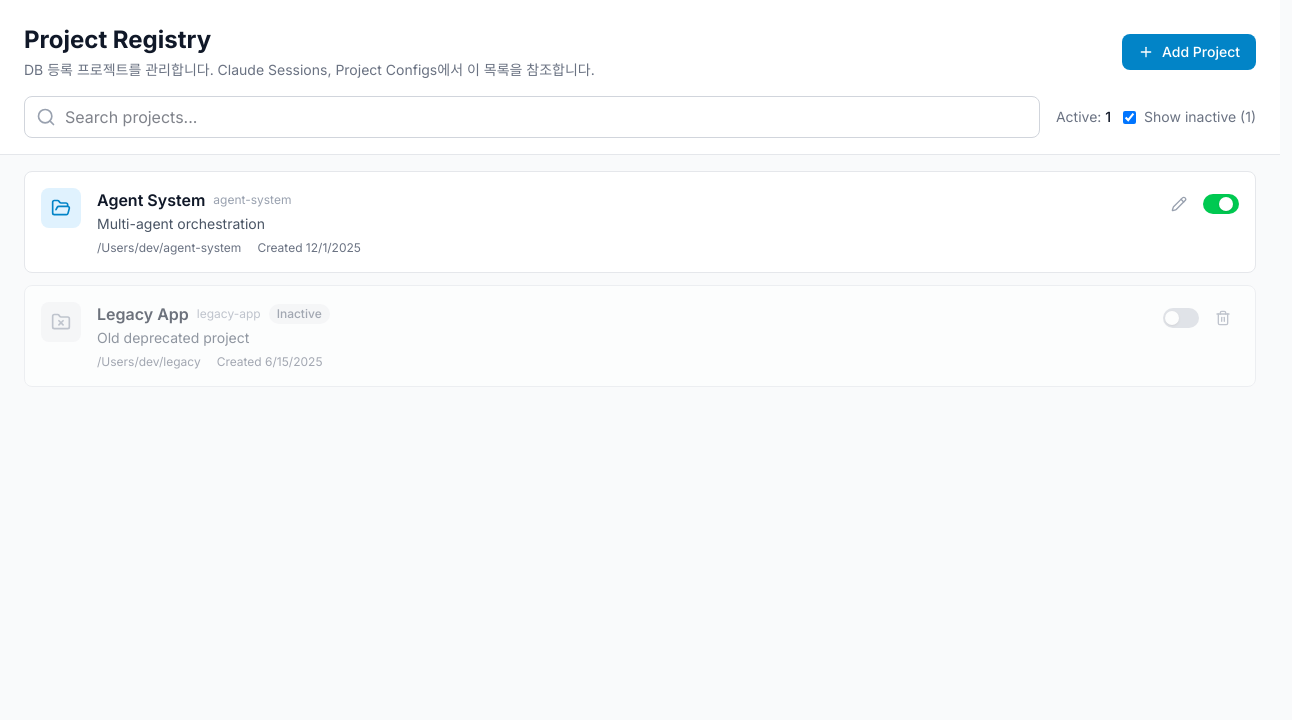
Test case: ProjectManagementPage › edit project flow › enters edit mode when edit button is clicked
Click the button titled "Edit": (1179, 204) top-left (1163, 188), bottom-right (1195, 220)
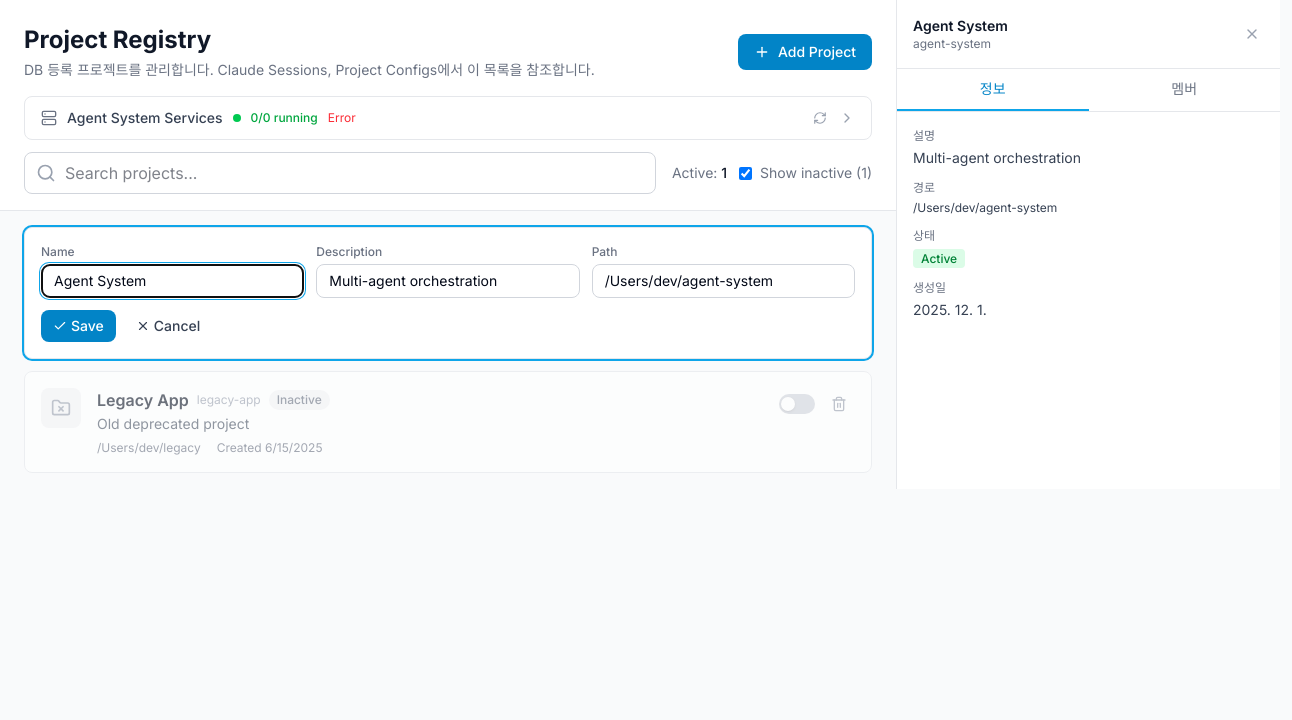
Now the field showing "Agent System" below "Name" is shown, box top-left (41, 264), bottom-right (304, 298)
Now the field showing "Multi-agent orchestration" below "Description" is shown, box top-left (316, 264), bottom-right (580, 298)
Now the field showing "/Users/dev/agent-system" below "Path" is shown, box top-left (592, 264), bottom-right (855, 298)
